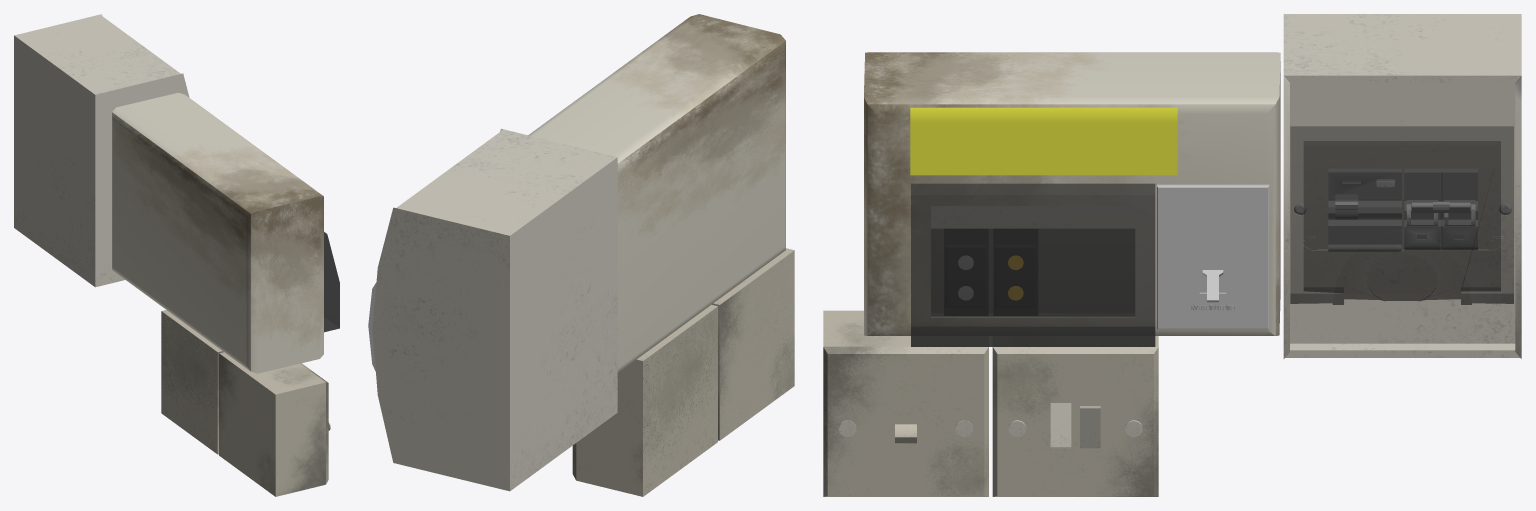
Rendered from circuitBreaker.fbx.
3 views of the same model, side by side, from view 1: azimuth 30°, elevation 25°; view 2: azimuth 150°, elevation 25°; view 3: azimuth 270°, elevation 25° (orthographic). The views are drawn at different scales.
Parts seen in each view (by area): view 1: atlasWhite, beigeAtlas (×2), beigeAtlas1, pCube97; view 2: beigeAtlas (×2), atlasWhite, beigeAtlas1; view 3: beigeAtlas (×2), atlasWhite, pCube97, plasticCover, beigeAtlas1, sticker, switch1, rightCB1, rightCB2, yellowCircles, whiteCircles.
Boxes of the visible parts, box(x1,y1,x2,y2) form: atlasWhite: box(112, 92, 323, 373); beigeAtlas (×2): box(14, 14, 223, 454); beigeAtlas1: box(219, 352, 330, 496); pCube97: box(324, 232, 339, 332); beigeAtlas (×2): box(372, 128, 717, 496); atlasWhite: box(528, 14, 785, 372); beigeAtlas1: box(712, 248, 794, 440); beigeAtlas (×2): box(992, 14, 1521, 496); atlasWhite: box(864, 52, 1280, 335); pCube97: box(911, 183, 1155, 346); plasticCover: box(1290, 126, 1513, 304); beigeAtlas1: box(823, 310, 988, 496); sticker: box(910, 107, 1177, 175); switch1: box(1157, 184, 1269, 329); rightCB1: box(1328, 169, 1401, 251); rightCB2: box(1404, 169, 1477, 249); yellowCircles: box(995, 245, 1036, 308); whiteCircles: box(945, 245, 986, 308).
Size of the model in its own units: 8.71 by 20.75 by 30.54.
